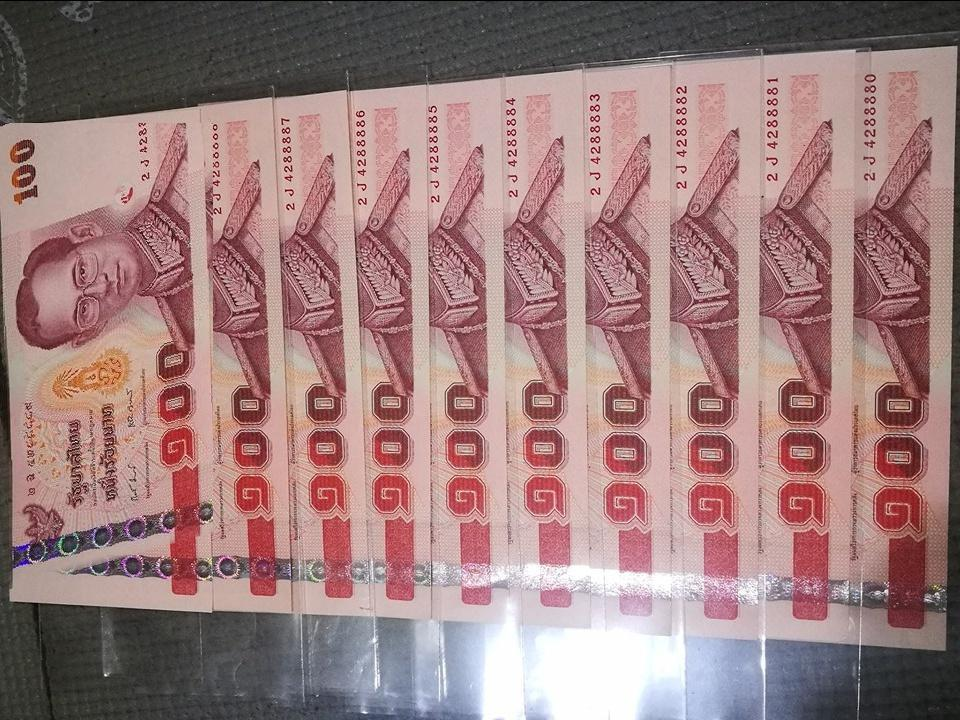100BahtTai: (3, 124, 213, 591)
